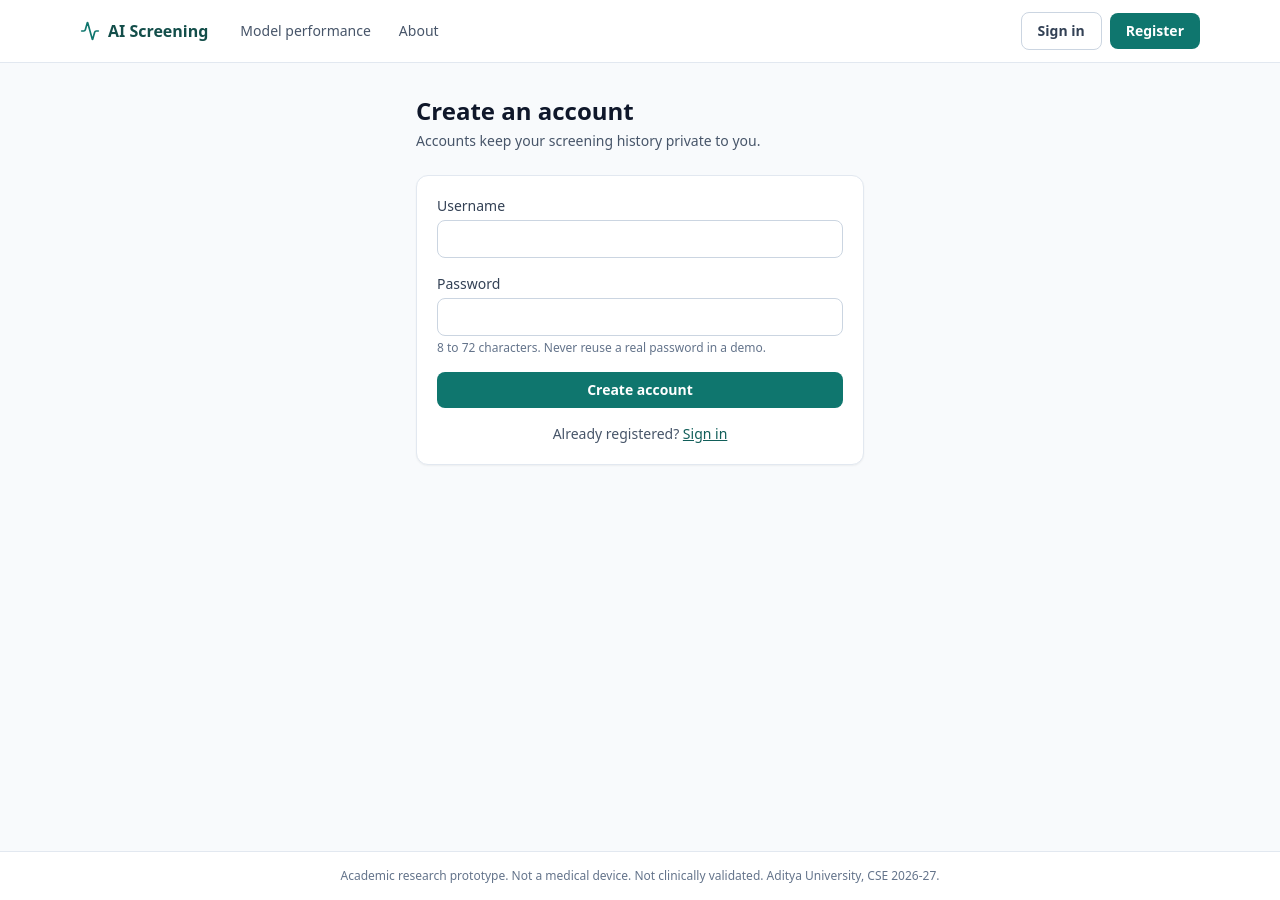
Test: authentication › enforces the 8-character password rule when registering
Type "newuser" into the field labelled "Username".
click(640, 239); type("newuser")  # box [437,220,843,258]
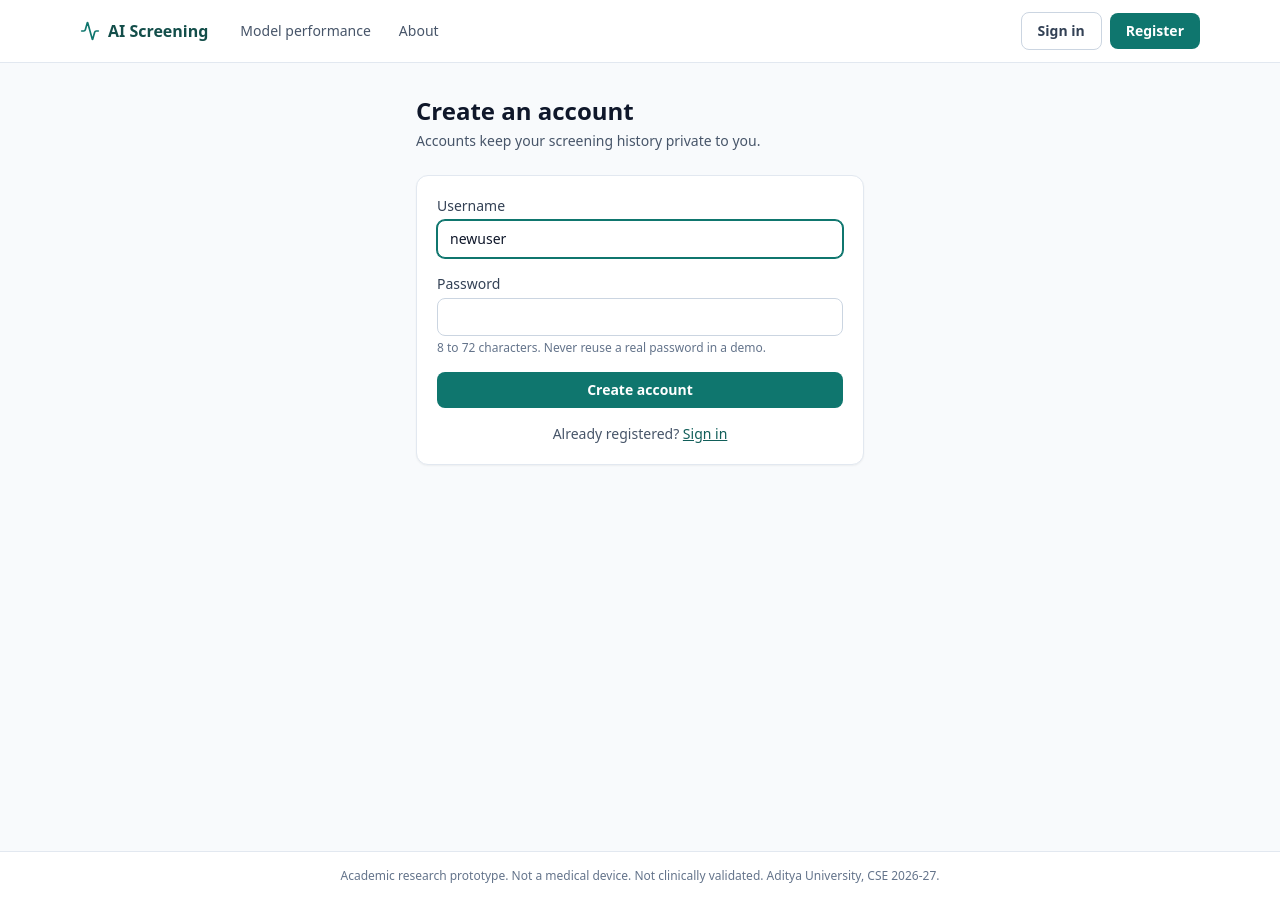
Type "short" into the password field labelled "Password".
click(640, 317); type("short")  # box [437,298,843,336]
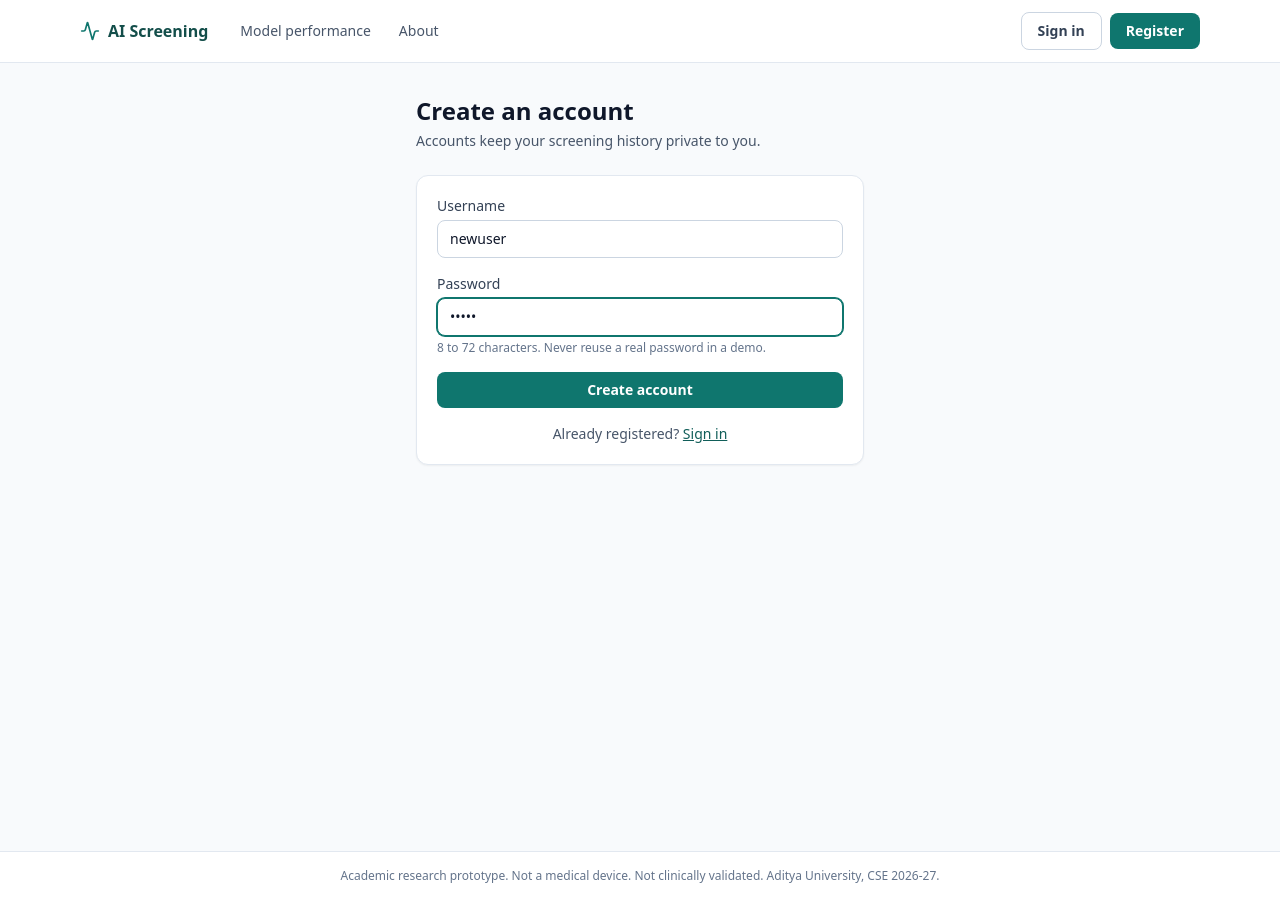
Click the button "Create account".
click(640, 390)  # box [437,372,843,408]
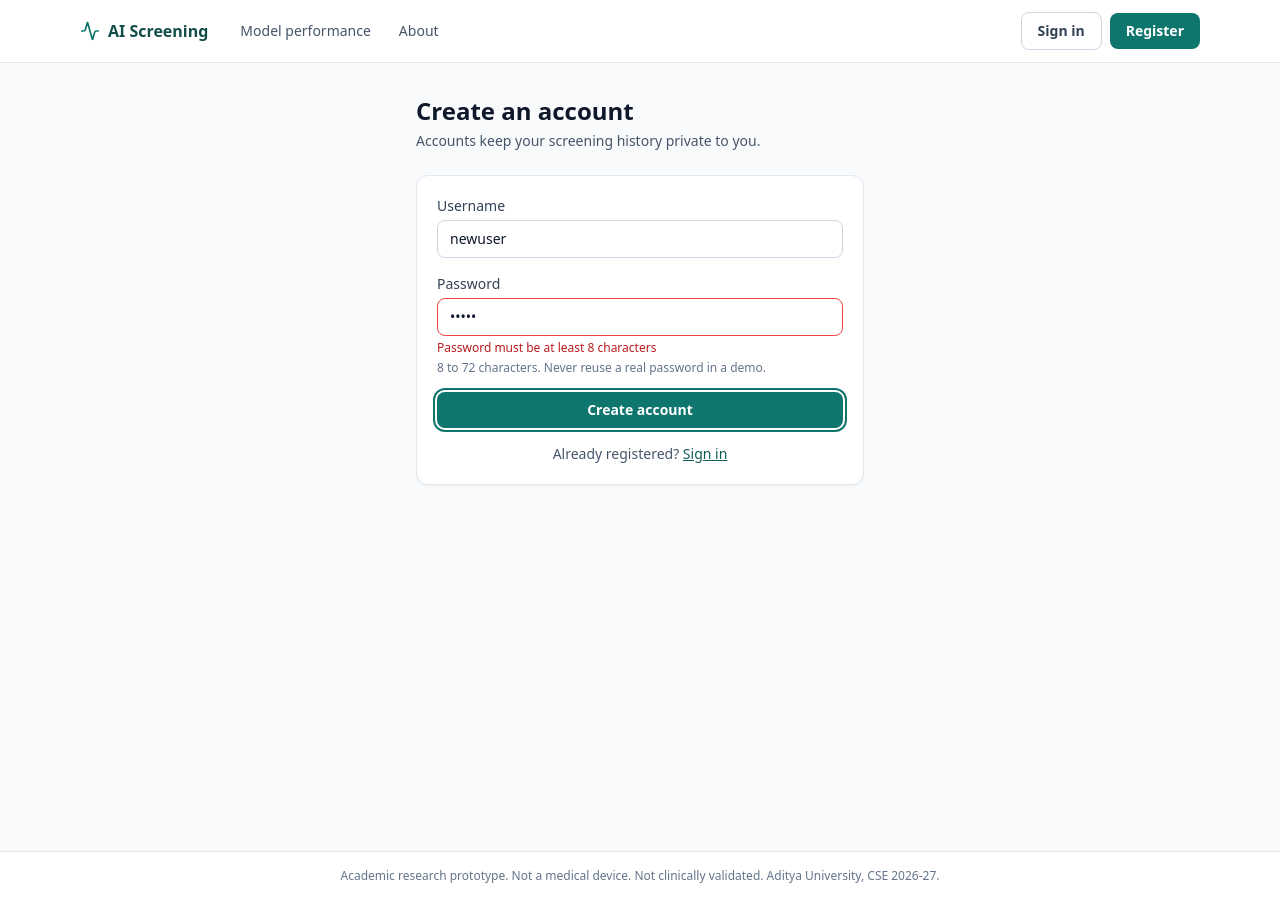
Check: the text "Password must be at least 8 characters" is shown, box [437,339,656,356]
